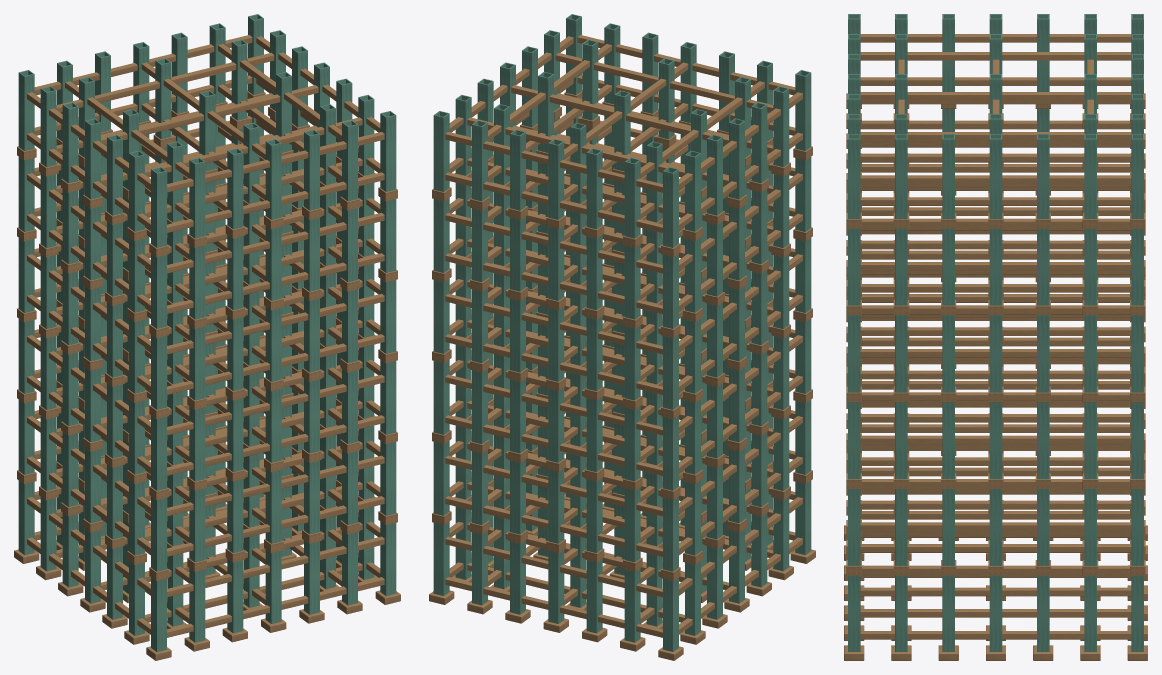
The picture shows the model from 3 angles, left to right: view 1: azimuth 30°, elevation 25°; view 2: azimuth 150°, elevation 25°; view 3: azimuth 270°, elevation 25°; orthographic projection. The views are drawn at different scales.
Visible parts, largest first — view 1: Tier 5 internal tie 0-0.56-0-0.75, Tier 5 internal tie 0-0-0-0.75, Tier 4 tie 0-0-0.75, Tier 0 tie 0-0-0.25, Tier 1 tie 0-0-0.25, Tier 3 tie 0-0-0.75, Tier 3 tie 0-0-0.25, Tier 0 tie 0-0-0.75, Tier 1 tie 0-0-0.75, Tier 2 tie 0-0-0.25, Tier 4 tie 0-0-0.25, Tier 5 tie 0-0-0.75 (+152 smaller); view 2: Tier 5 internal tie 0--0.56-0-0.75, Tier 5 internal tie 0-0-0-0.75, Tier 4 tie 2-0-0.75, Tier 0 tie 2-0-0.25, Tier 1 tie 2-0-0.25, Tier 3 tie 2-0-0.75, Tier 3 tie 2-0-0.25, Tier 0 tie 2-0-0.75, Tier 1 tie 2-0-0.75, Tier 2 tie 2-0-0.25, Tier 4 tie 2-0-0.25, Tier 5 tie 2-0-0.75 (+152 smaller); view 3: Tier 5 internal tie 1--0.56-0-0.75, Tier 5 internal tie 1-0-0-0.75, Tier 1 tie 1-0-0.75, Tier 5 tie 1-0-0.75, Tier 0 tie 1-0-0.75, Tier 2 internal tie 1-0.56-0-0.25, Tier 3 tie 1-0-0.25, Tier 4 tie 1-0-0.75, Tier 3 tie 3-0-0.25, Tier 2 tie 3-0-0.25, Tier 4 tie 3-0-0.75, Tier 0 tie 3-0-0.75 (+94 smaller).
Boxes of the visible parts, left/top/right/bottom form: Tier 5 internal tie 0-0.56-0-0.75: left=56, top=52, right=274, bottom=112; Tier 5 internal tie 0-0-0-0.75: left=101, top=85, right=318, bottom=144; Tier 4 tie 0-0-0.75: left=167, top=212, right=384, bottom=273; Tier 0 tie 0-0-0.25: left=167, top=577, right=384, bottom=637; Tier 1 tie 0-0-0.25: left=167, top=496, right=384, bottom=556; Tier 3 tie 0-0-0.75: left=167, top=293, right=384, bottom=354; Tier 3 tie 0-0-0.25: left=167, top=334, right=384, bottom=394; Tier 0 tie 0-0-0.75: left=167, top=536, right=384, bottom=597; Tier 1 tie 0-0-0.75: left=167, top=455, right=384, bottom=516; Tier 2 tie 0-0-0.25: left=167, top=415, right=384, bottom=475; Tier 4 tie 0-0-0.25: left=167, top=253, right=384, bottom=313; Tier 5 tie 0-0-0.75: left=167, top=132, right=384, bottom=192; Tier 5 internal tie 0--0.56-0-0.75: left=555, top=52, right=773, bottom=112; Tier 5 internal tie 0-0-0-0.75: left=511, top=85, right=728, bottom=144; Tier 4 tie 2-0-0.75: left=445, top=212, right=662, bottom=273; Tier 0 tie 2-0-0.25: left=445, top=577, right=662, bottom=637; Tier 1 tie 2-0-0.25: left=445, top=496, right=662, bottom=556; Tier 3 tie 2-0-0.75: left=445, top=293, right=662, bottom=354; Tier 3 tie 2-0-0.25: left=445, top=334, right=662, bottom=394; Tier 0 tie 2-0-0.75: left=445, top=536, right=662, bottom=597; Tier 1 tie 2-0-0.75: left=445, top=455, right=662, bottom=516; Tier 2 tie 2-0-0.25: left=445, top=415, right=662, bottom=475; Tier 4 tie 2-0-0.25: left=445, top=253, right=662, bottom=313; Tier 5 tie 2-0-0.75: left=445, top=132, right=662, bottom=192; Tier 5 internal tie 1--0.56-0-0.75: left=860, top=52, right=1131, bottom=60; Tier 5 internal tie 1-0-0-0.75: left=860, top=92, right=1131, bottom=100; Tier 1 tie 1-0-0.75: left=860, top=500, right=1131, bottom=509; Tier 5 tie 1-0-0.75: left=860, top=153, right=1131, bottom=162; Tier 0 tie 1-0-0.75: left=860, top=587, right=1131, bottom=596; Tier 2 internal tie 1-0.56-0-0.25: left=860, top=435, right=1131, bottom=444; Tier 3 tie 1-0-0.25: left=860, top=370, right=1131, bottom=379; Tier 4 tie 1-0-0.75: left=860, top=240, right=1131, bottom=249; Tier 3 tie 3-0-0.25: left=860, top=250, right=1131, bottom=259; Tier 2 tie 3-0-0.25: left=860, top=337, right=1131, bottom=346; Tier 4 tie 3-0-0.75: left=861, top=120, right=1130, bottom=129; Tier 0 tie 3-0-0.75: left=862, top=467, right=1129, bottom=476.
Size of the model in its own units: 1.8 by 3.4 by 1.8.
2 materials, 2 textured.
